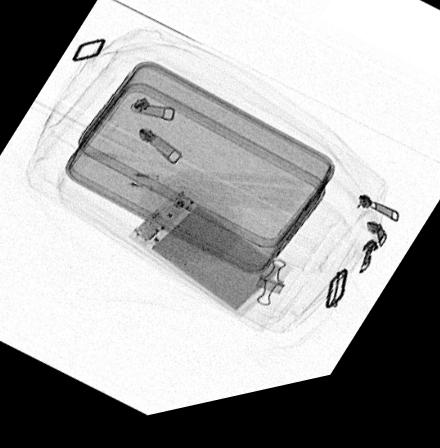Powerbank: (124, 192, 293, 328)
